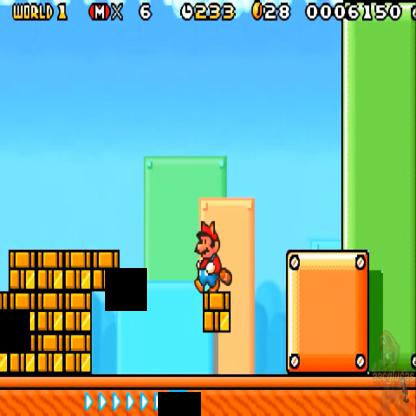Mario: (192, 219, 232, 295)
moneda: (250, 0, 266, 26)
